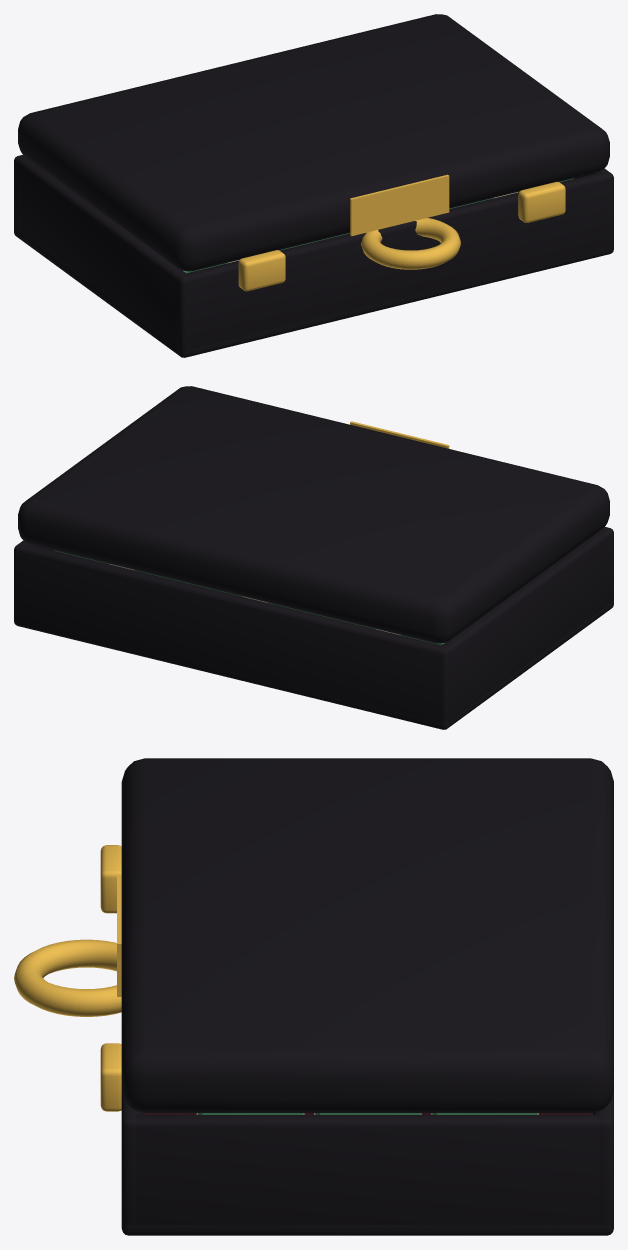
File: maleta.glb
3 renders of one model, top to bottom at view 1: azimuth 30°, elevation 25°; view 2: azimuth 150°, elevation 25°; view 3: azimuth 270°, elevation 25°, orthographic. The views are drawn at different scales.
Visible parts, largest first — view 1: Tampa, Base; view 2: Tampa, Base; view 3: Tampa, Base.
Boxes of the visible parts, box(x1,y1,x2,y2) form: Tampa: box(18, 14, 609, 271); Base: box(14, 154, 613, 357); Tampa: box(18, 386, 609, 643); Base: box(14, 526, 613, 729); Tampa: box(117, 758, 613, 1113); Base: box(14, 845, 613, 1235).
Bounding box in the file's own units: 0.62 × 0.17 × 0.512.
